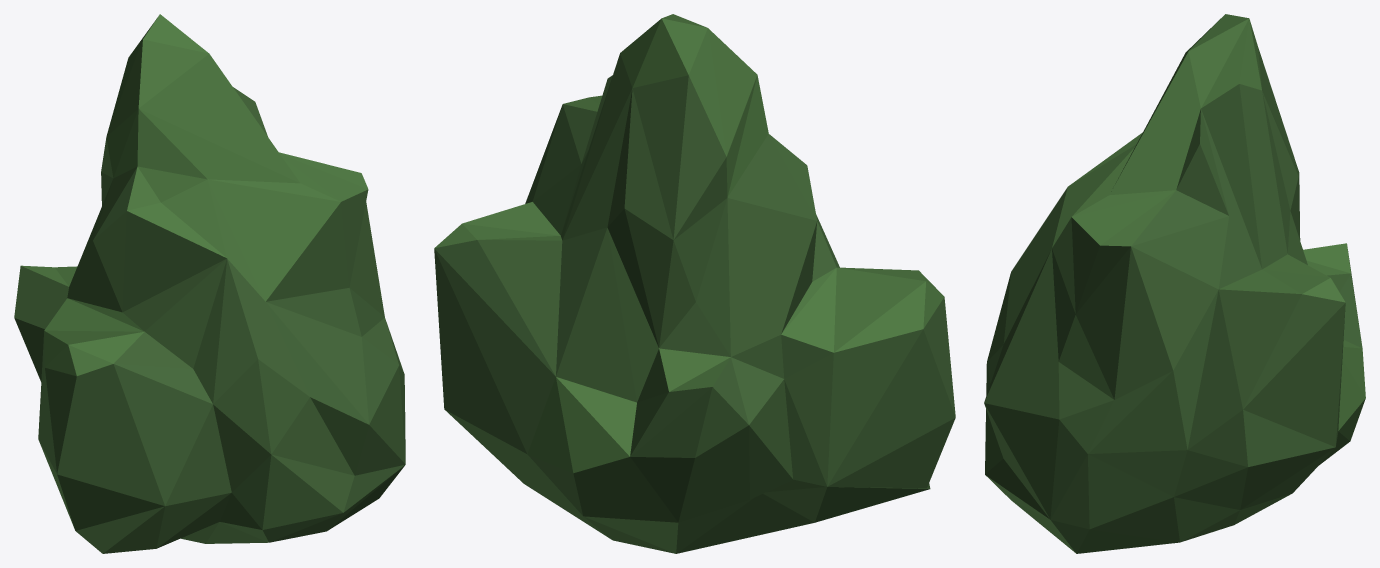
Rendered from SM_Env_Bush_02.fbx.
3 renders of one model, left to right at view 1: azimuth 30°, elevation 25°; view 2: azimuth 150°, elevation 25°; view 3: azimuth 270°, elevation 25°, orthographic. The views are drawn at different scales.
Parts seen in each view (by area): view 1: SM_Env_Bush_02; view 2: SM_Env_Bush_02; view 3: SM_Env_Bush_02.
Part boxes in pixels (x1=…): SM_Env_Bush_02: x1=14, y1=14, x2=405, y2=553; SM_Env_Bush_02: x1=434, y1=14, x2=955, y2=553; SM_Env_Bush_02: x1=984, y1=14, x2=1365, y2=553.
Bounding box in the file's own units: 0.0161 × 0.0204 × 0.0141.
1 material, 1 textured.
